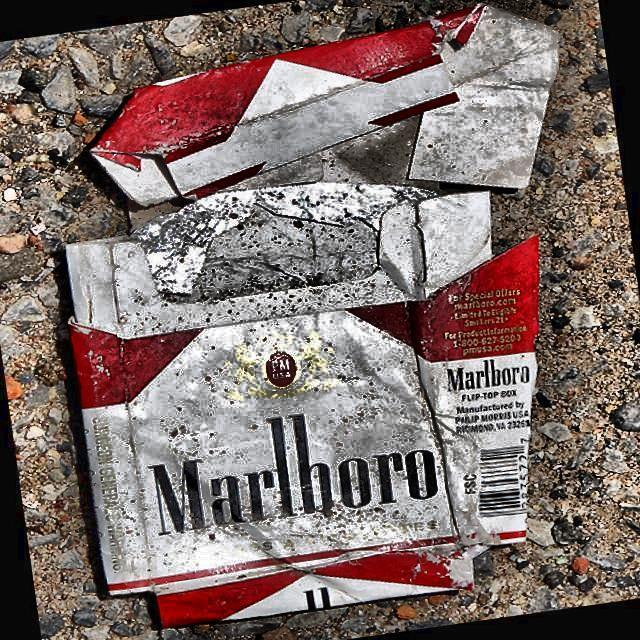cardboard: (64, 6, 560, 632)
